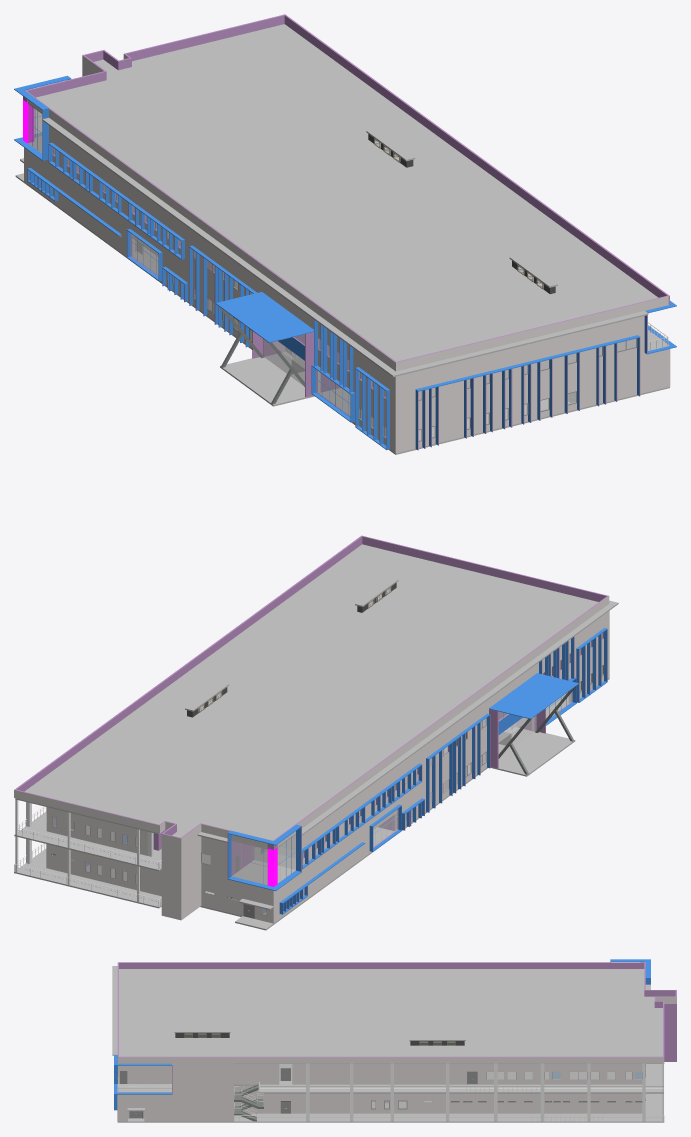
3 views of the same model, one above another, from view 1: azimuth 30°, elevation 25°; view 2: azimuth 150°, elevation 25°; view 3: azimuth 270°, elevation 25° (orthographic). The views are drawn at different scales.
Parts seen in each view (by area): view 1: Default_Roof, Ceiling_Tile_600_x_1200_1_, Copper, Default_Wall, Glass, Clad_-_White, RNT_Material, Aluminum; view 2: Default_Roof, Ceiling_Tile_600_x_1200_1_, Copper, Default_Wall, Glass, Concrete__Cast-in-Place__Gray, Phase_-_Demo, Clad_-_White, RNT_Material; view 3: Default_Roof, Ceiling_Tile_600_x_1200_1_, Default_Wall, Concrete__Cast-in-Place__Gray, Phase_-_Demo, Glass, Copper, Door_-_Panel, RNT_Material, Clad_-_White, Stair_Railing, Render_Material_0-0-255.
Boxes of the visible parts, x1=… form: Default_Roof: x1=15, y1=24, x2=669, y2=454; Ceiling_Tile_600_x_1200_1_: x1=24, y1=54, x2=670, y2=453; Copper: x1=14, y1=75, x2=676, y2=450; Default_Wall: x1=25, y1=14, x2=669, y2=450; Glass: x1=28, y1=104, x2=636, y2=440; Clad_-_White: x1=53, y1=148, x2=637, y2=441; RNT_Material: x1=218, y1=306, x2=304, y2=404; Aluminum: x1=28, y1=106, x2=350, y2=417; Default_Roof: x1=14, y1=544, x2=618, y2=930; Ceiling_Tile_600_x_1200_1_: x1=14, y1=596, x2=609, y2=923; Copper: x1=86, y1=628, x2=607, y2=914; Default_Wall: x1=14, y1=535, x2=608, y2=913; Glass: x1=52, y1=633, x2=602, y2=915; Concrete__Cast-in-Place__Gray: x1=15, y1=693, x2=571, y2=901; Phase_-_Demo: x1=14, y1=806, x2=161, y2=906; Clad_-_White: x1=51, y1=633, x2=604, y2=915; RNT_Material: x1=498, y1=685, x2=577, y2=774; Default_Roof: x1=112, y1=966, x2=675, y2=1122; Ceiling_Tile_600_x_1200_1_: x1=117, y1=997, x2=676, y2=1121; Default_Wall: x1=114, y1=962, x2=676, y2=1102; Concrete__Cast-in-Place__Gray: x1=306, y1=1063, x2=663, y2=1121; Phase_-_Demo: x1=118, y1=1064, x2=664, y2=1121; Glass: x1=279, y1=1064, x2=641, y2=1108; Copper: x1=114, y1=959, x2=650, y2=1110; Door_-_Panel: x1=120, y1=1068, x2=641, y2=1118; RNT_Material: x1=234, y1=1084, x2=263, y2=1121; Clad_-_White: x1=371, y1=1064, x2=645, y2=1109; Stair_Railing: x1=118, y1=1078, x2=263, y2=1119; Render_Material_0-0-255: x1=175, y1=1033, x2=464, y2=1045.
Size of the model in its own units: 46.17 by 12.5 by 114.
